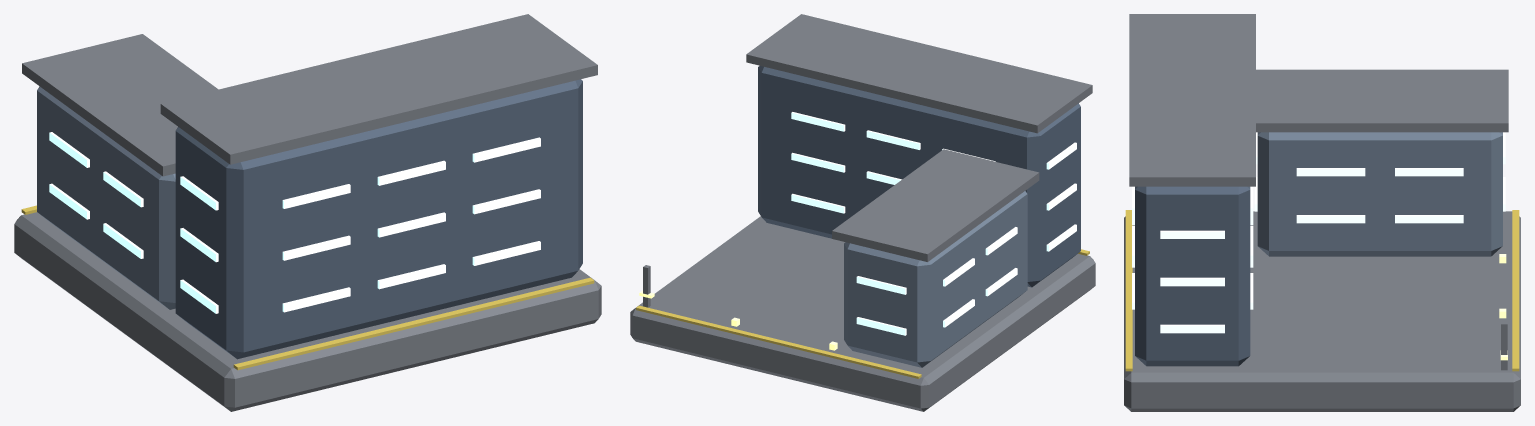
The model's file is zone_high_3_t1.glb.
3 renders of one model, left to right at view 1: azimuth 30°, elevation 25°; view 2: azimuth 150°, elevation 25°; view 3: azimuth 270°, elevation 25°, orthographic. The views are drawn at different scales.
Parts seen in each view (by area): view 1: zone_high_3_t1, detail; view 2: zone_high_3_t1, detail; view 3: zone_high_3_t1, detail.
Boxes of the visible parts, bbox=[...] form: zone_high_3_t1: bbox=[14, 14, 601, 411]; detail: bbox=[21, 205, 594, 370]; zone_high_3_t1: bbox=[630, 14, 1095, 411]; detail: bbox=[636, 249, 1089, 378]; zone_high_3_t1: bbox=[1124, 14, 1520, 411]; detail: bbox=[1125, 210, 1519, 371].
Size of the model in its own units: 27.5 by 18.01 by 27.5.
